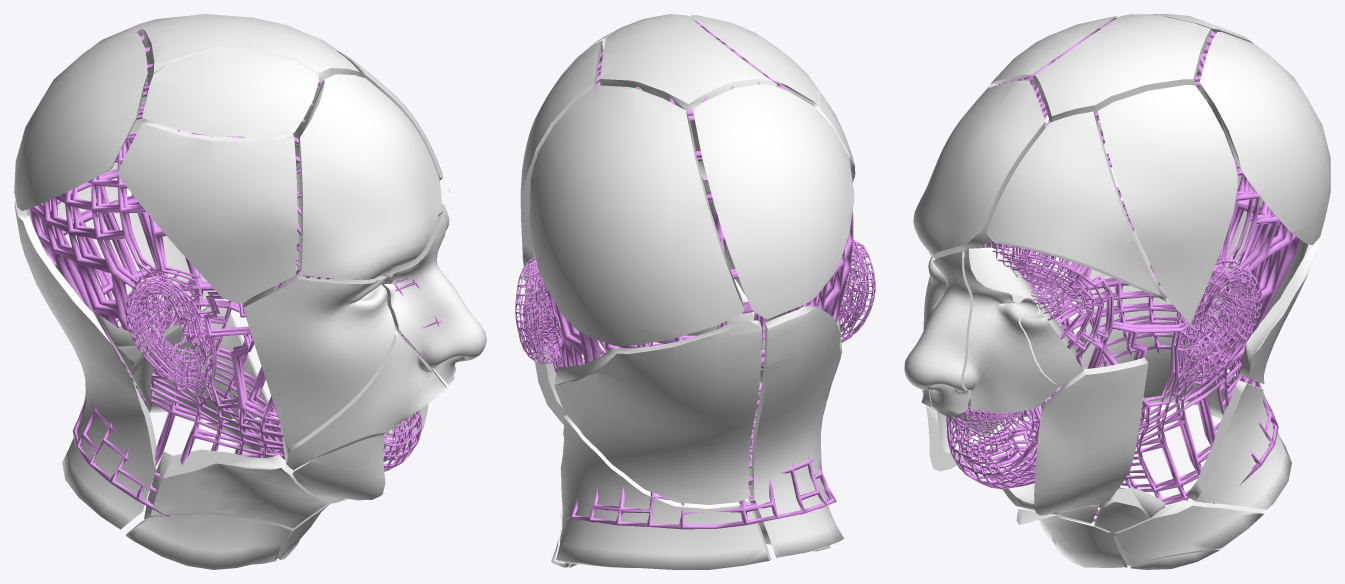
File: Head.fbx
The picture shows the model from 3 angles, left to right: view 1: azimuth 30°, elevation 25°; view 2: azimuth 150°, elevation 25°; view 3: azimuth 270°, elevation 25°; orthographic projection. The views are drawn at different scales.
Visible parts, largest first — view 1: head.003_cell.039_0, head.003_1; view 2: head.003_cell.039_0, head.003_1; view 3: head.003_cell.039_0, head.003_1.
Part boxes in pixels (left/top/right/bottom): head.003_cell.039_0: left=14, top=14, right=486, bottom=569; head.003_1: left=29, top=30, right=442, bottom=516; head.003_cell.039_0: left=520, top=14, right=855, bottom=569; head.003_1: left=515, top=21, right=875, bottom=529; head.003_cell.039_0: left=904, top=14, right=1330, bottom=569; head.003_1: left=946, top=19, right=1300, bottom=521.
Bounding box in the file's own units: 79.56 × 116 × 87.65.
